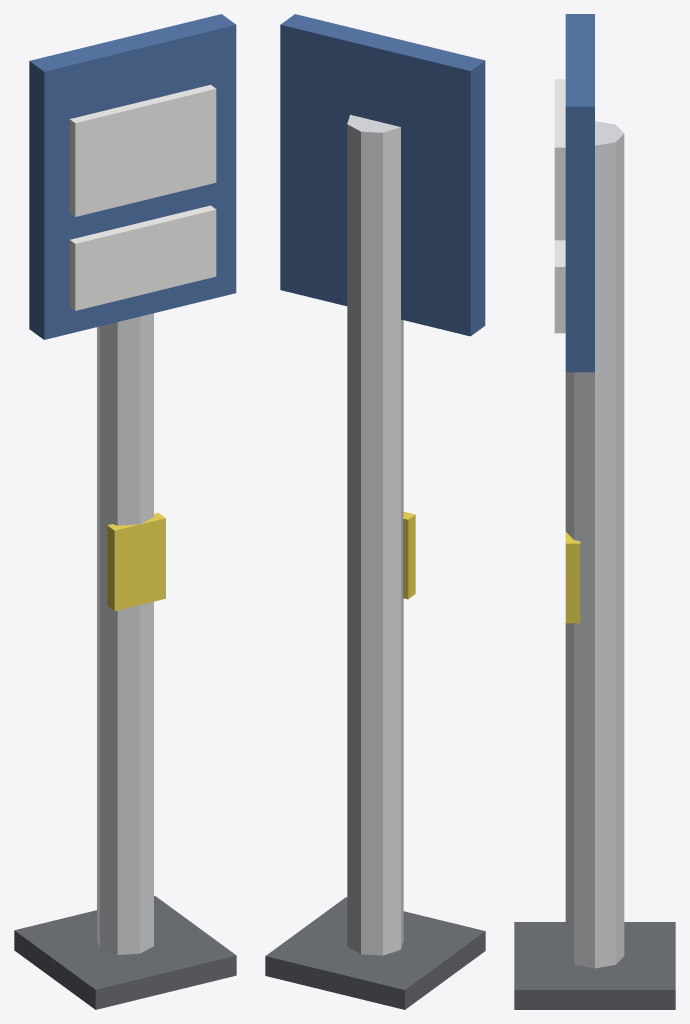
File: marina-and-yacht-club-marina-and-yacht-club-berth-numb-659f0074__38328.glb
3 renders of one model, left to right at view 1: azimuth 30°, elevation 25°; view 2: azimuth 150°, elevation 25°; view 3: azimuth 270°, elevation 25°, orthographic.
Parts seen in each view (by area): view 1: marina-and-yacht-club-berth-number-post; view 2: marina-and-yacht-club-berth-number-post; view 3: marina-and-yacht-club-berth-number-post.
Boxes of the visible parts, x1,y1,x2,y2 form: marina-and-yacht-club-berth-number-post: (14,14,236,1009); marina-and-yacht-club-berth-number-post: (265,14,485,1009); marina-and-yacht-club-berth-number-post: (514,14,675,1009).
Size of the model in its own units: 0.3 by 1.38 by 0.22.
